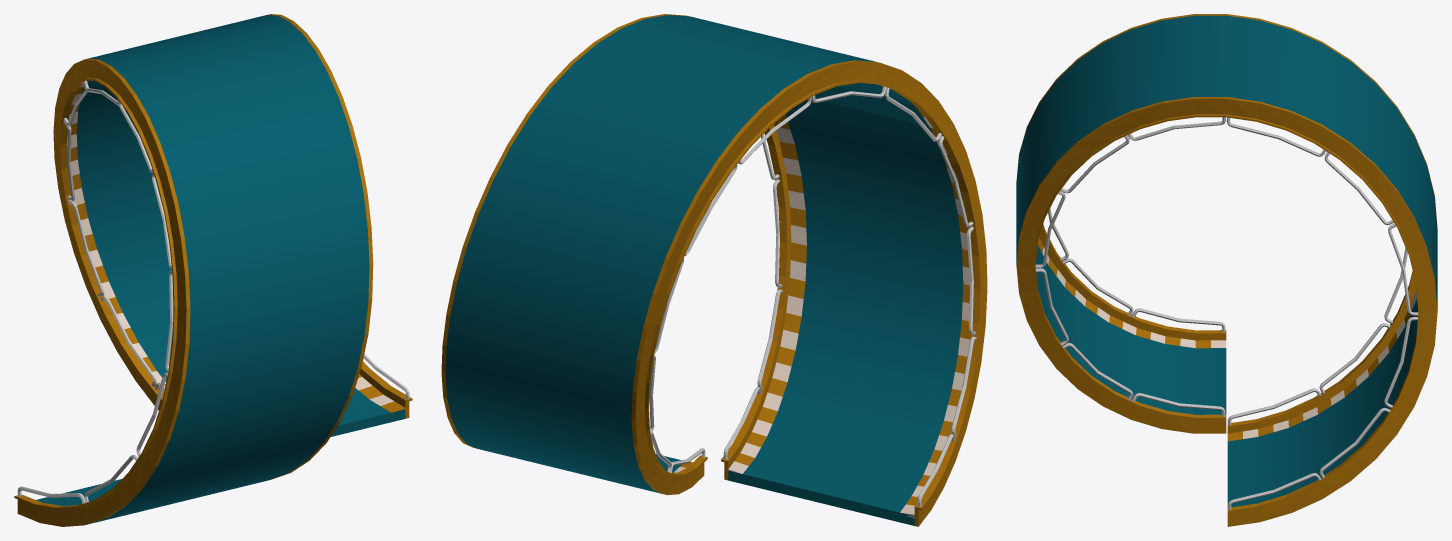
Rendered from looping.FBX.
3 views of the same model, side by side, from view 1: azimuth 30°, elevation 25°; view 2: azimuth 150°, elevation 25°; view 3: azimuth 270°, elevation 25° (orthographic). The views are drawn at different scales.
Visible parts, largest first — view 1: looping, wall_r, wall_l, curbs_r, curbs_l; view 2: looping, wall_r, wall_l, curbs_l, curbs_r; view 3: looping, wall_l, wall_r, curbs_r.
Part boxes in pixels (x1,y1,x2,y2): looping: (36, 15, 405, 523); wall_r: (14, 58, 190, 526); wall_l: (267, 14, 412, 480); curbs_r: (67, 84, 165, 392); curbs_l: (355, 374, 405, 414); looping: (445, 15, 963, 525); wall_r: (631, 60, 987, 526); wall_l: (441, 14, 791, 480); curbs_l: (728, 114, 806, 473); curbs_r: (673, 110, 970, 517); looping: (1016, 15, 1437, 507); wall_l: (1016, 97, 1437, 526); wall_r: (1016, 14, 1437, 433); curbs_r: (1037, 238, 1416, 441).
Size of what is drawn, in the model's own units: 427 by 420 by 420.
